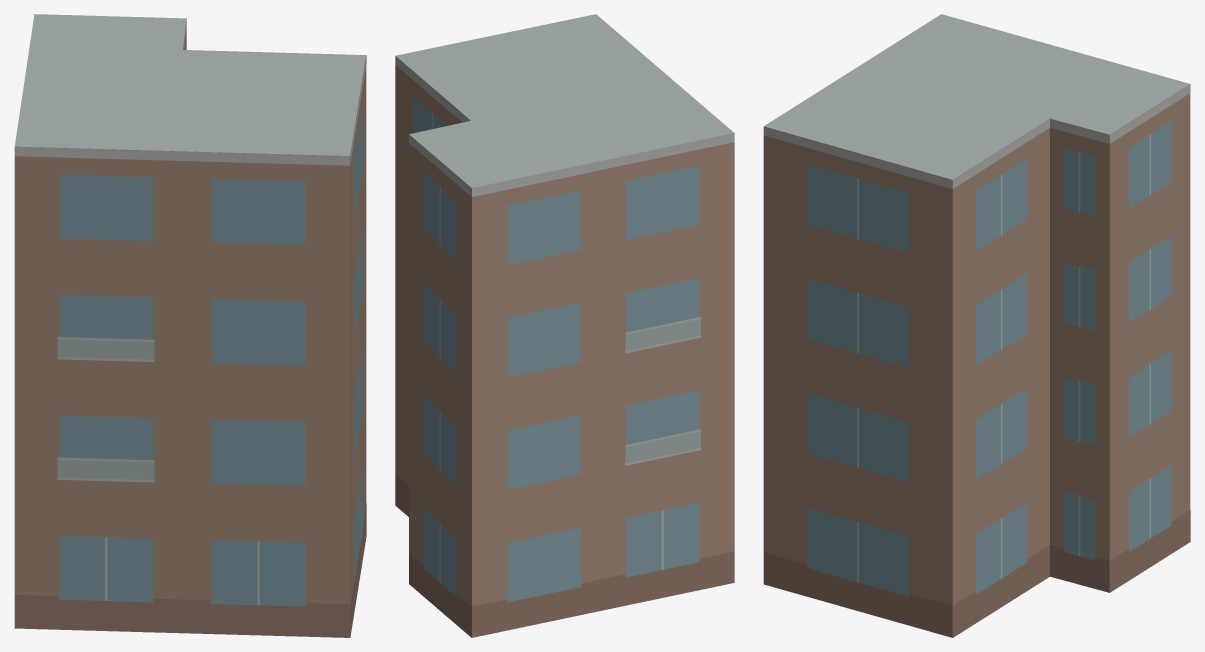
Rendered from survey-upis-32500898.glb.
3 renders of one model, left to right at view 1: azimuth 30°, elevation 25°; view 2: azimuth 150°, elevation 25°; view 3: azimuth 270°, elevation 25°, orthographic. The views are drawn at different scales.
Visible parts, largest first — view 1: survey-upis-32500898.tmp; view 2: survey-upis-32500898.tmp; view 3: survey-upis-32500898.tmp.
Part boxes in pixels (x1=…): survey-upis-32500898.tmp: x1=14, y1=14, x2=366, y2=637; survey-upis-32500898.tmp: x1=395, y1=14, x2=734, y2=637; survey-upis-32500898.tmp: x1=763, y1=14, x2=1190, y2=637.
Bounding box in the file's own units: 9.48 × 12.2 × 10.31.
